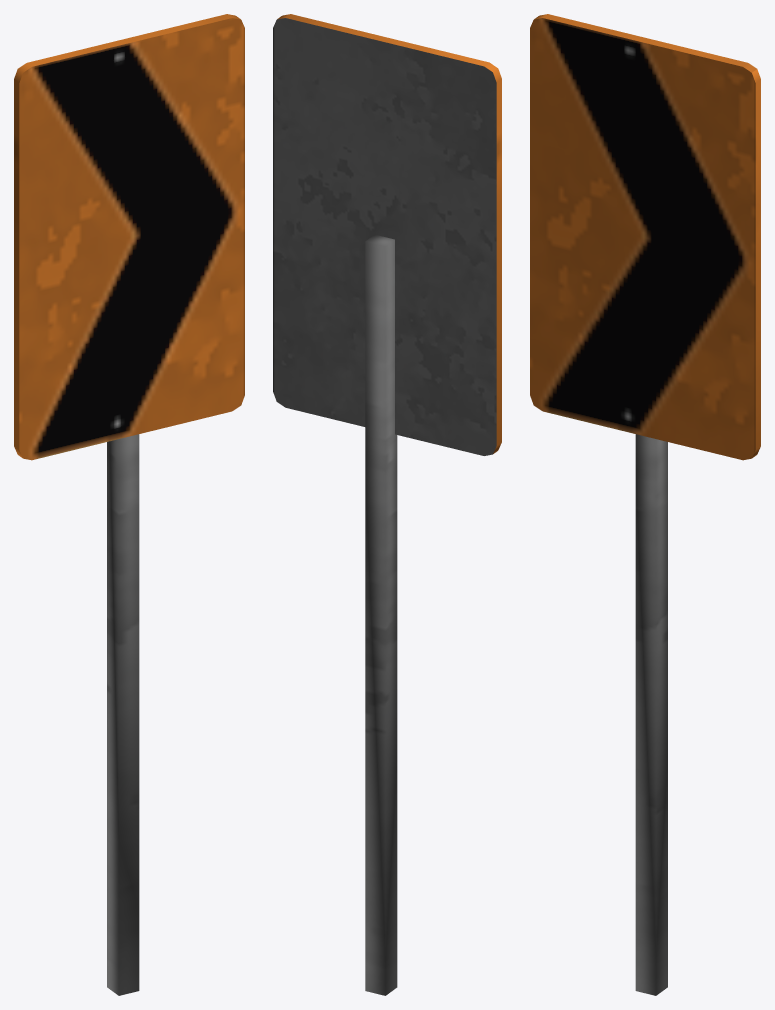
The model's file is Sign_03.glb.
3 renders of one model, left to right at view 1: azimuth 30°, elevation 25°; view 2: azimuth 150°, elevation 25°; view 3: azimuth 330°, elevation 25°, orthographic.
Parts seen in each view (by area): view 1: Sign_03.001; view 2: Sign_03.001; view 3: Sign_03.001.
Boxes of the visible parts, x1,y1,x2,y2 form: Sign_03.001: (14, 14, 244, 995); Sign_03.001: (273, 14, 501, 995); Sign_03.001: (530, 14, 760, 995).
Size of the model in its own units: 0.312 by 1.26 by 0.0356.
Materials: 1 (1 with a texture image).
